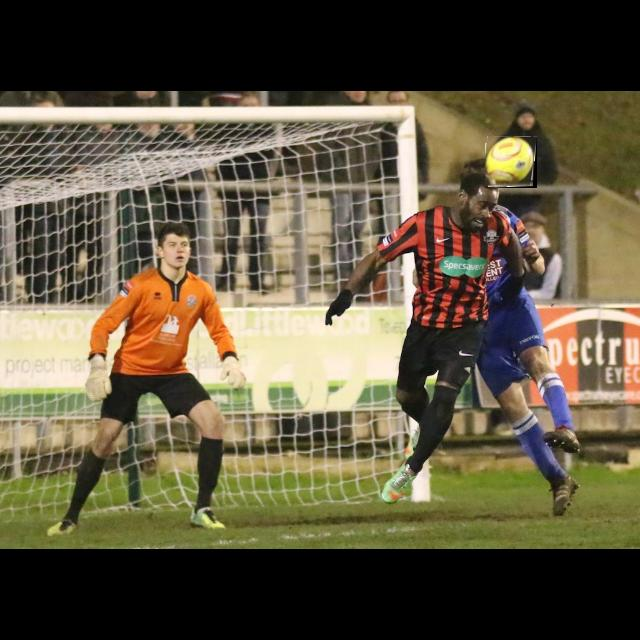Football: (485, 136, 537, 188)
